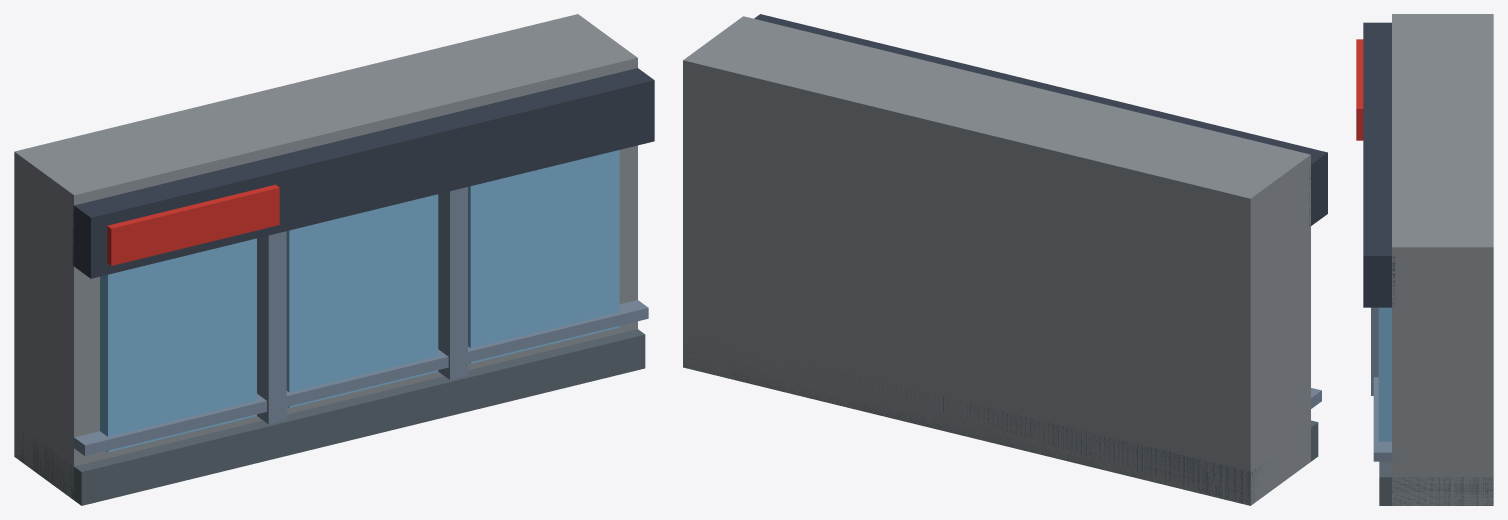
The model's file is cittaArdesiaBaseB.glb.
3 views of the same model, side by side, from view 1: azimuth 30°, elevation 25°; view 2: azimuth 150°, elevation 25°; view 3: azimuth 270°, elevation 25° (orthographic). The views are drawn at different scales.
Visible parts, largest first — view 1: cittaArdesiaBaseB_glass, cittaArdesiaBaseB_cittaArdesia, cittaArdesiaBaseB_steelDark, cittaArdesiaBaseB_tarmac, cittaArdesiaBaseB_steel, cittaArdesiaBaseB_red; view 2: cittaArdesiaBaseB_cittaArdesia, cittaArdesiaBaseB_tarmac, cittaArdesiaBaseB_steelDark; view 3: cittaArdesiaBaseB_cittaArdesia, cittaArdesiaBaseB_steelDark, cittaArdesiaBaseB_tarmac, cittaArdesiaBaseB_glass, cittaArdesiaBaseB_steel, cittaArdesiaBaseB_red.
Part boxes in pixels (x1,y1,x2,y2): cittaArdesiaBaseB_glass: [100, 150, 619, 452]; cittaArdesiaBaseB_cittaArdesia: [14, 14, 637, 498]; cittaArdesiaBaseB_steelDark: [72, 68, 654, 278]; cittaArdesiaBaseB_tarmac: [15, 329, 645, 505]; cittaArdesiaBaseB_steel: [74, 187, 648, 455]; cittaArdesiaBaseB_red: [107, 184, 279, 265]; cittaArdesiaBaseB_cittaArdesia: [683, 16, 1310, 505]; cittaArdesiaBaseB_tarmac: [683, 336, 1318, 505]; cittaArdesiaBaseB_steelDark: [754, 14, 1327, 225]; cittaArdesiaBaseB_cittaArdesia: [1392, 14, 1493, 505]; cittaArdesiaBaseB_steelDark: [1363, 22, 1395, 307]; cittaArdesiaBaseB_tarmac: [1379, 461, 1493, 505]; cittaArdesiaBaseB_glass: [1378, 307, 1391, 441]; cittaArdesiaBaseB_steel: [1371, 307, 1395, 461]; cittaArdesiaBaseB_red: [1356, 39, 1363, 140].
Bounding box in the file's own units: 8.7 × 4.5 × 2.16.
